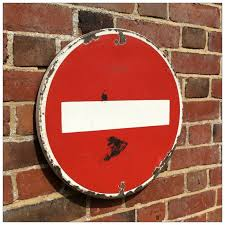No entry: (36, 27, 184, 201)
